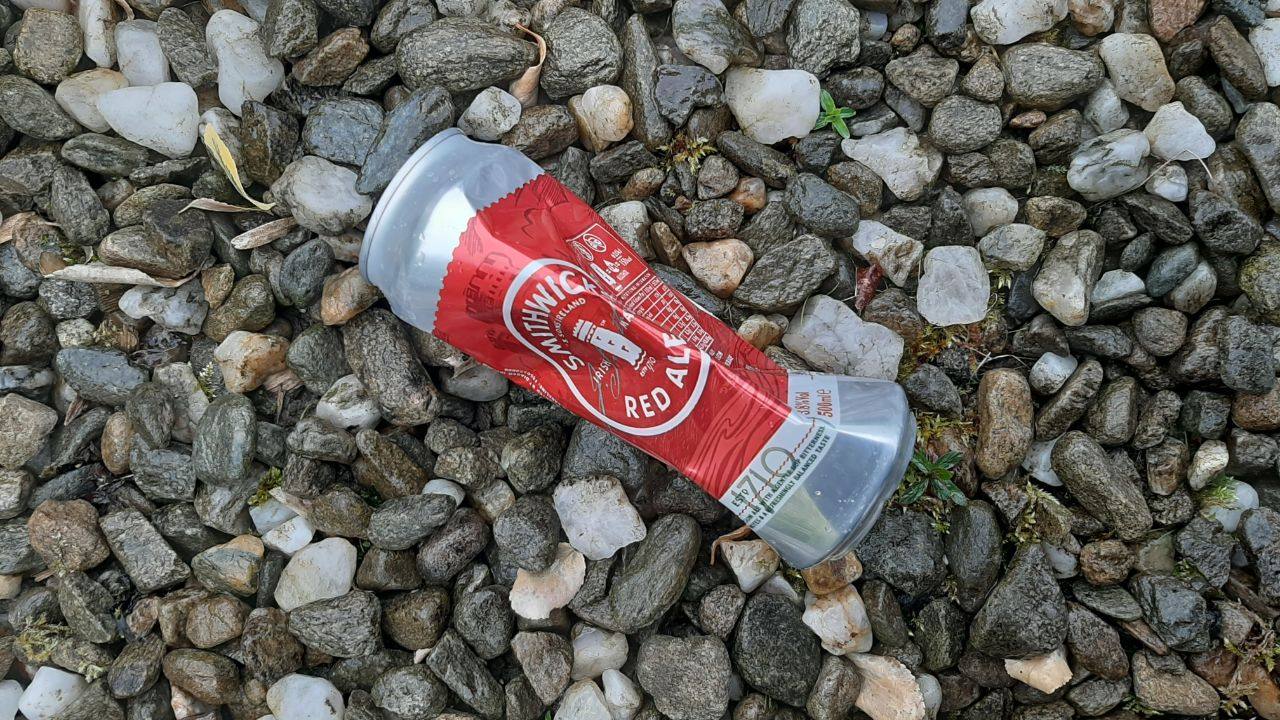Can: (359, 127, 920, 563)
